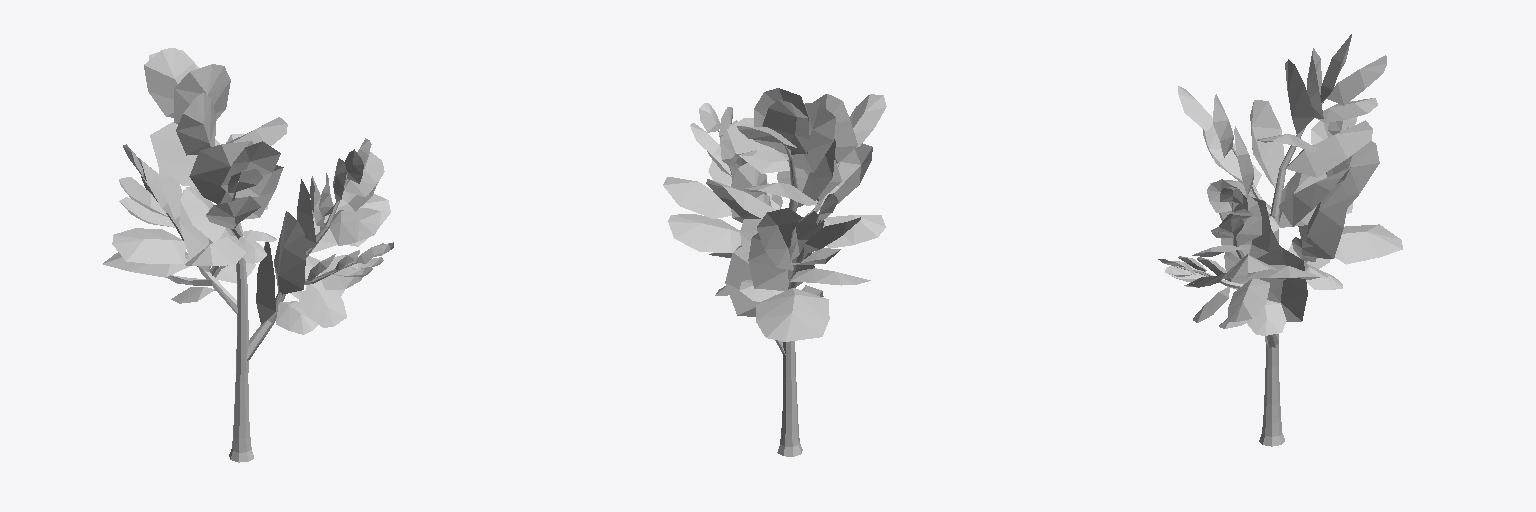
File: tree3.obj
3 renders of one model, left to right at view 1: azimuth 30°, elevation 25°; view 2: azimuth 150°, elevation 25°; view 3: azimuth 270°, elevation 25°, orthographic.
Parts seen in each view (by area): view 1: tree3:Mesh; view 2: tree3:Mesh; view 3: tree3:Mesh.
Boxes of the visible parts, x1,y1,x2,y2 form: tree3:Mesh: [103, 48, 393, 462]; tree3:Mesh: [663, 88, 886, 456]; tree3:Mesh: [1158, 34, 1402, 446].
Bounding box in the file's own units: 5 × 7.96 × 4.58.